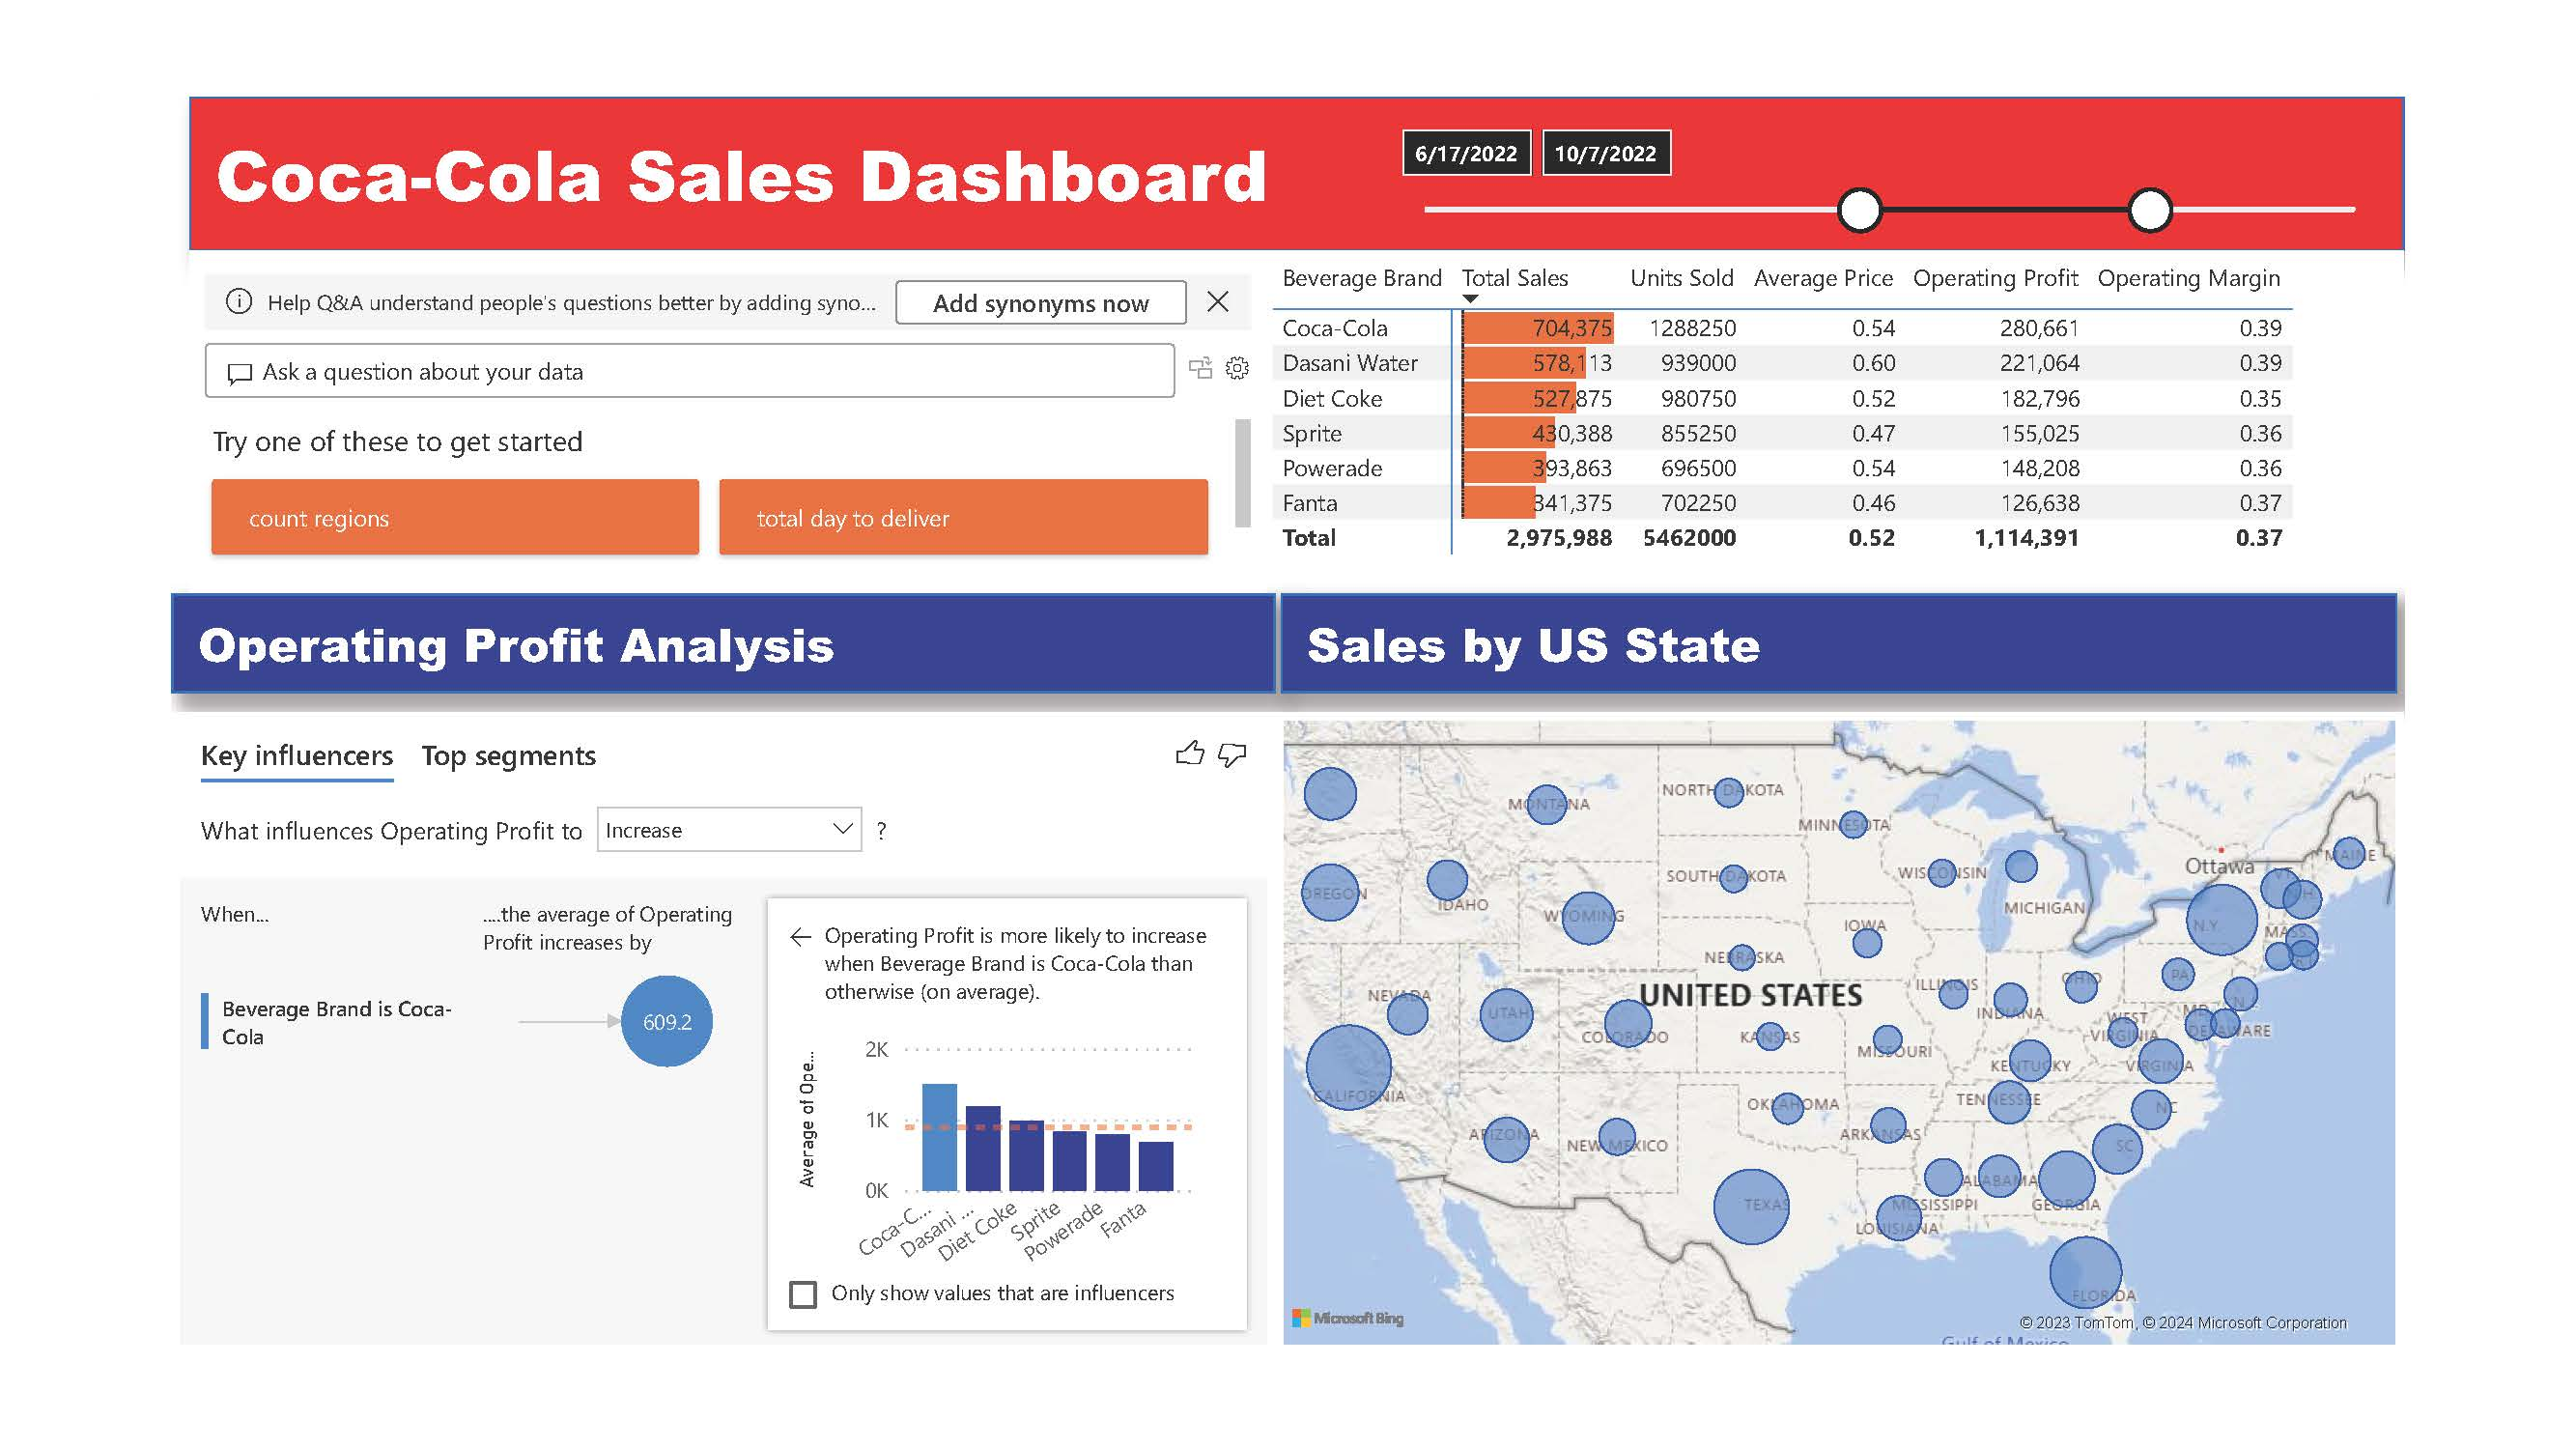

The page's visual inventory and layout, read from the dashboard file:
{"tool":"powerbi","page":{"name":"Page 1","canvas":[1280,720],"ordinal":0},"visuals":[{"type":"shape","box":[10.2,0,1269.8,88.5],"z":0},{"type":"shape","box":[0,284.9,632.9,57],"z":1000},{"type":"shape","box":[635.9,284.9,640,57],"z":2000},{"type":"qnaVisual","box":[10.2,88.5,616.6,196.4],"z":3000},{"type":"slicer","fields":{"Values":["Data.Invoice Date"]},"box":[693.3,8.9,580,71.1],"z":4000},{"type":"map","fields":{"Category":["Data.State"],"Size":["Sum(Data.Total Sales)"]},"box":[632.9,353.1,647.1,367.3],"z":5000},{"type":"pivotTable","fields":{"Rows":["Data.Beverage Brand"],"Values":["Sum(Data.Total Sales)","Sum(Data.Units Sold)","Avg(Data.Price per Unit)","Sum(Data.Operating Profit)","Avg(Data.Operating Margin)"]},"box":[626.8,88.5,653.2,188.2],"z":6000},{"type":"keyDriversVisual","fields":{"Target":["Data.Operating Profit"],"ExplainBy":["Data.Beverage Brand"]},"box":[0,353,633,367],"z":7000}]}

Visuals, with their boxes in screenshot pixels (x1, y1, x2, y2), scaled from the page's 1280x720 canvas onto the 2576x1449 screenshot:
shape: (left=20, top=0, right=2575, bottom=178)
shape: (left=0, top=574, right=1274, bottom=688)
shape: (left=1280, top=574, right=2567, bottom=688)
qnaVisual: (left=20, top=178, right=1261, bottom=574)
slicer - Data.Invoice Date: (left=1396, top=18, right=2562, bottom=161)
map - Data.State x Sum(Data.Total Sales): (left=1274, top=711, right=2575, bottom=1448)
pivotTable - Data.Beverage Brand x Sum(Data.Total Sales): (left=1261, top=178, right=2575, bottom=556)
keyDriversVisual - Data.Operating Profit x Data.Beverage Brand: (left=0, top=710, right=1274, bottom=1448)
